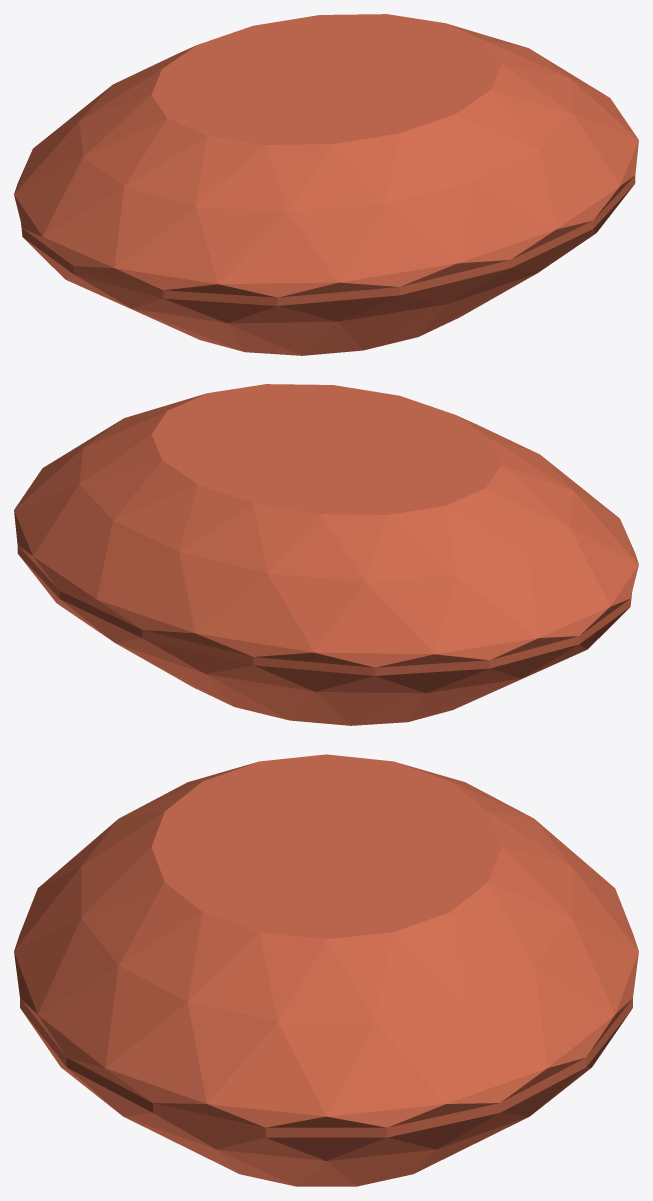
Rendered from gomed.glb.
3 views of the same model, one above another, from view 1: azimuth 30°, elevation 25°; view 2: azimuth 150°, elevation 25°; view 3: azimuth 270°, elevation 25° (orthographic). The views are drawn at different scales.
Visible parts, largest first — view 1: stone; view 2: stone; view 3: stone.
Boxes of the visible parts, <box> form: stone: <box>14,14,638,355</box>; stone: <box>14,384,638,725</box>; stone: <box>14,754,638,1186</box>.
Bounding box in the file's own units: 1 × 0.3815 × 0.8.
